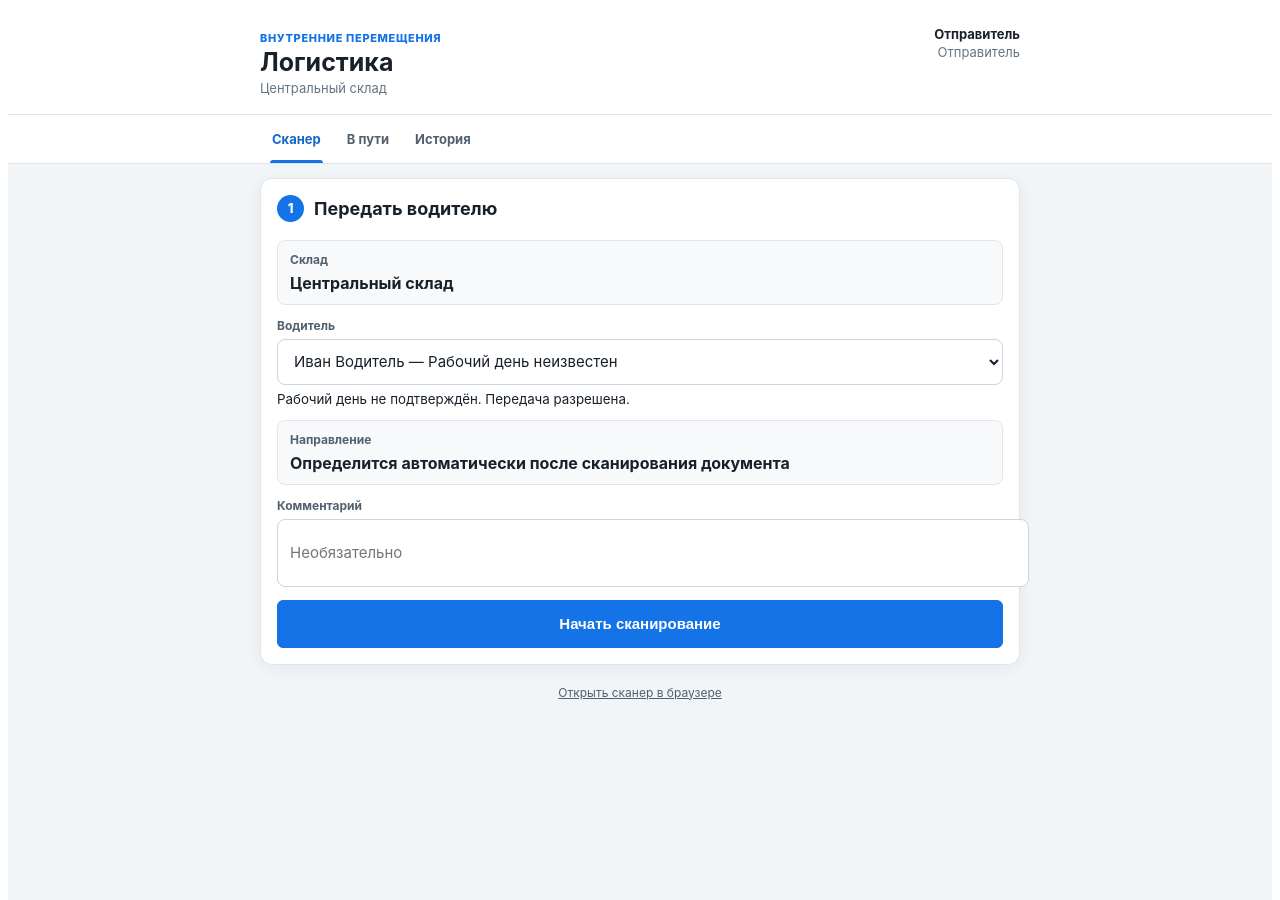
Test case: LogisticsWorkspace › объясняет, что QR считан, но РТУ ещё не загружена
The width and height of the screenshot is (1280, 900).
Click the button "Начать сканирование" at (640, 624), box top-left (277, 600), bottom-right (1003, 648)
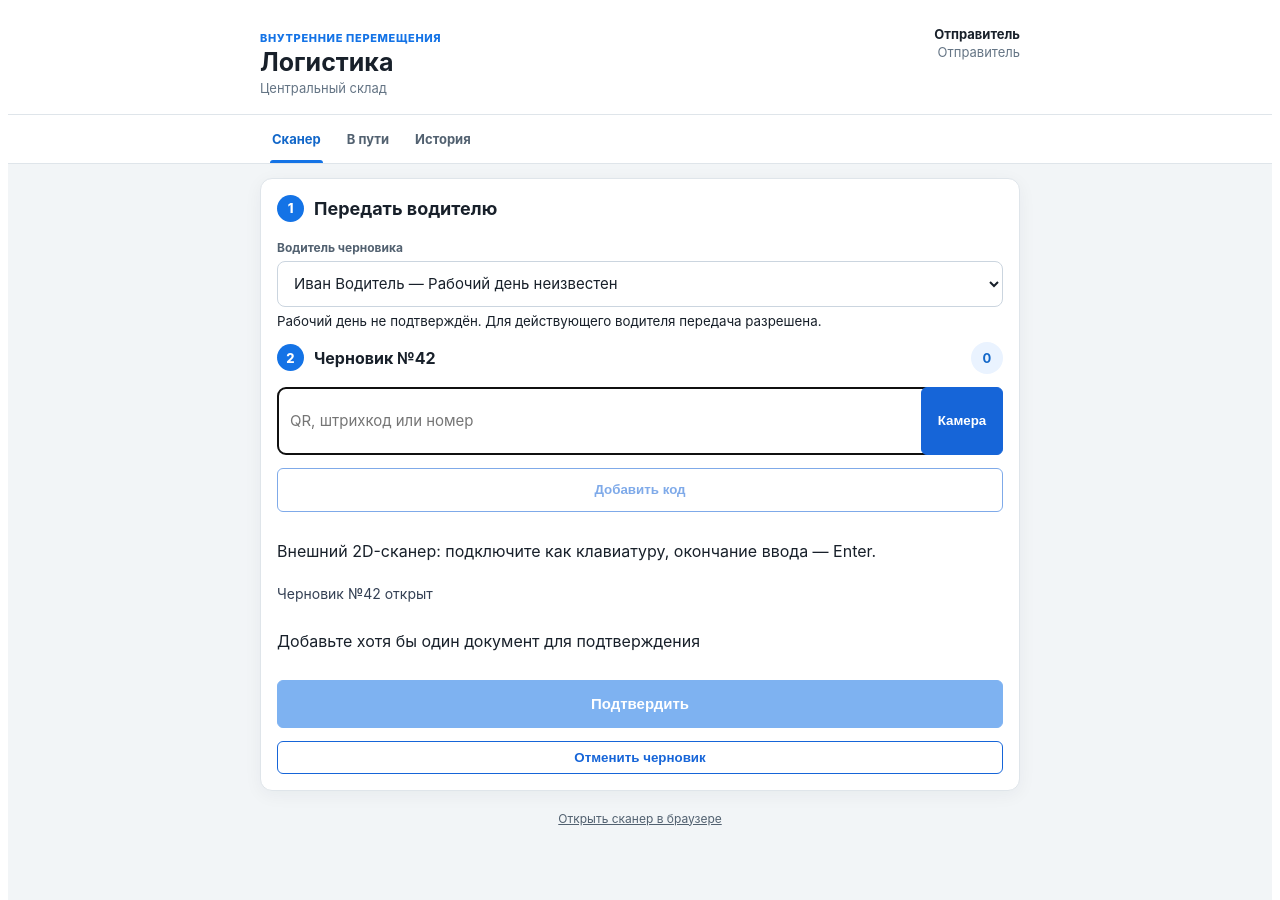
Type "MMLOG1|rtu|123" into the field with placeholder "QR, штрихкод или номер" at (608, 421), box top-left (277, 387), bottom-right (939, 455)
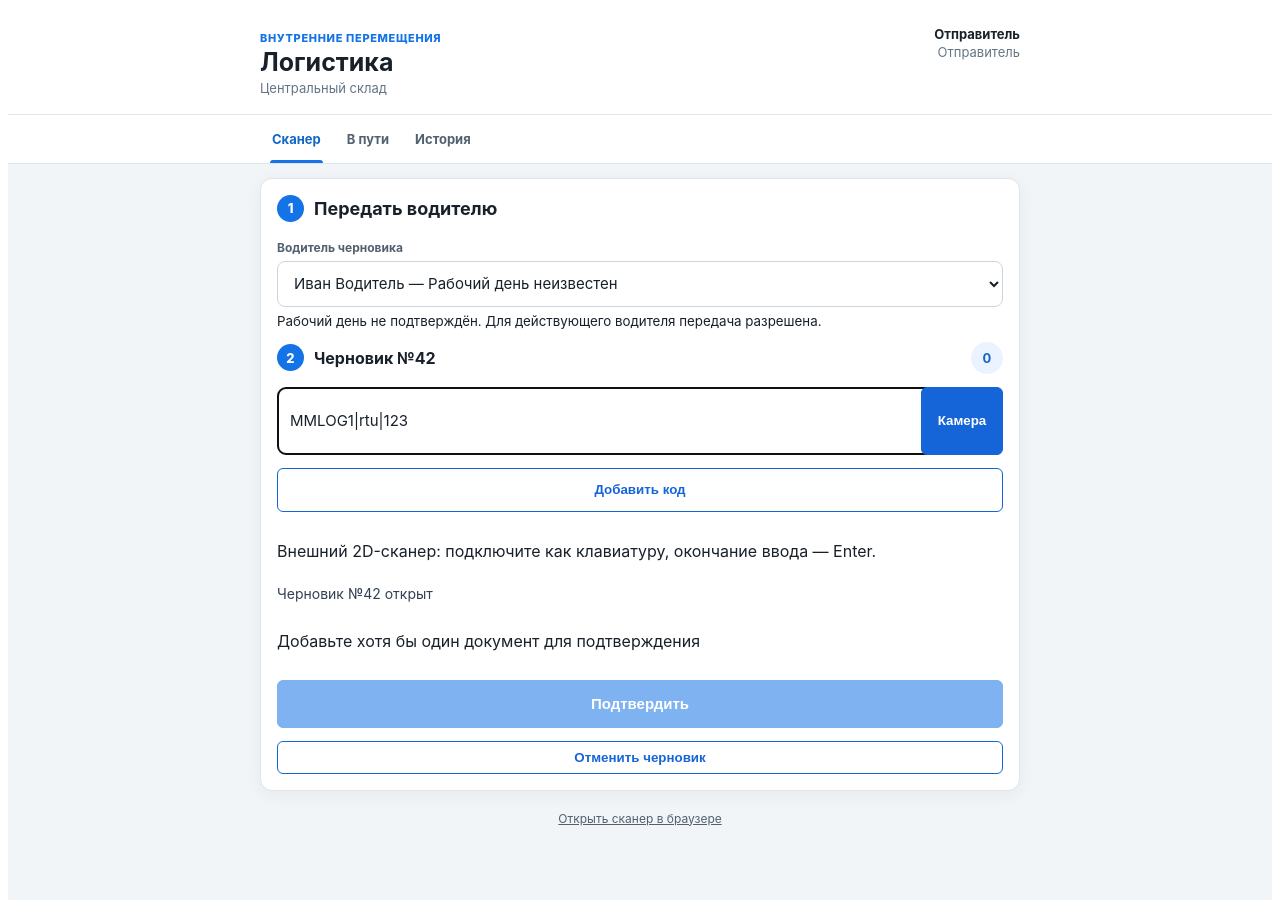
Click the button "Добавить код" at (640, 490), box top-left (277, 468), bottom-right (1003, 512)
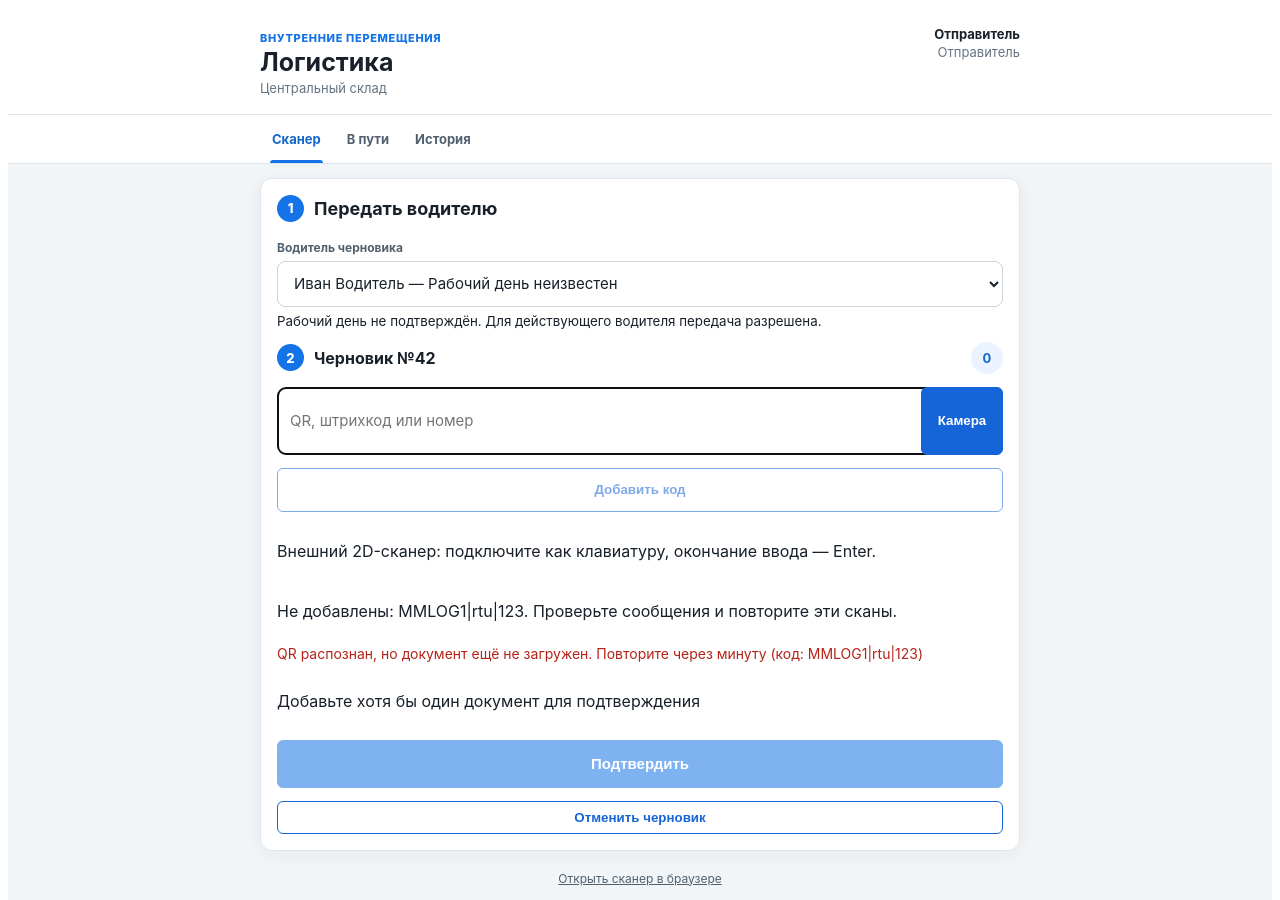
Expected: the text "Черновик №42" is shown, top-left (314, 348), bottom-right (436, 368)
Expected: the button "Подтвердить" is disabled, top-left (277, 740), bottom-right (1003, 788)
Expected: the text "QR распознан, но документ ещё не загружен. Повторите через минуту" is shown, top-left (277, 645), bottom-right (923, 662)
